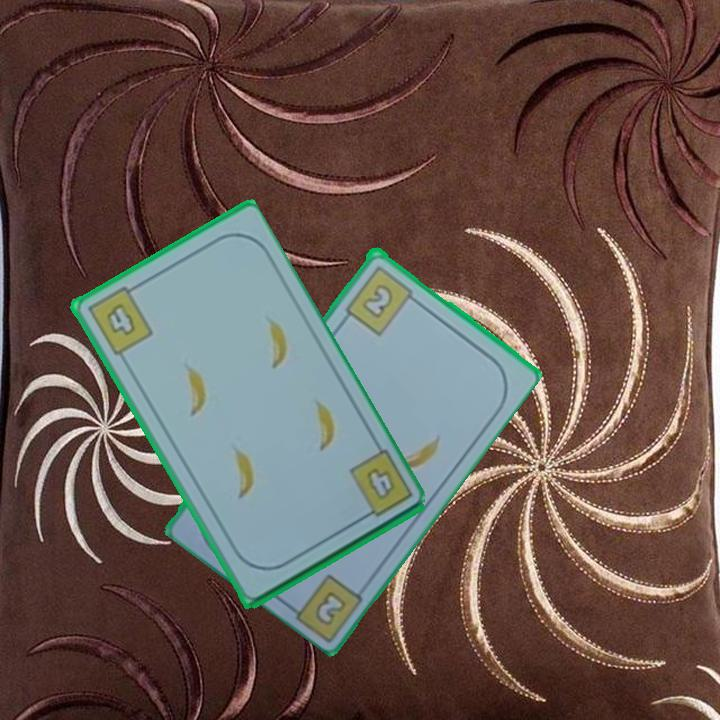2b: (341, 261, 422, 338), (311, 586, 349, 628)
4b: (83, 280, 156, 359), (345, 446, 416, 524)
